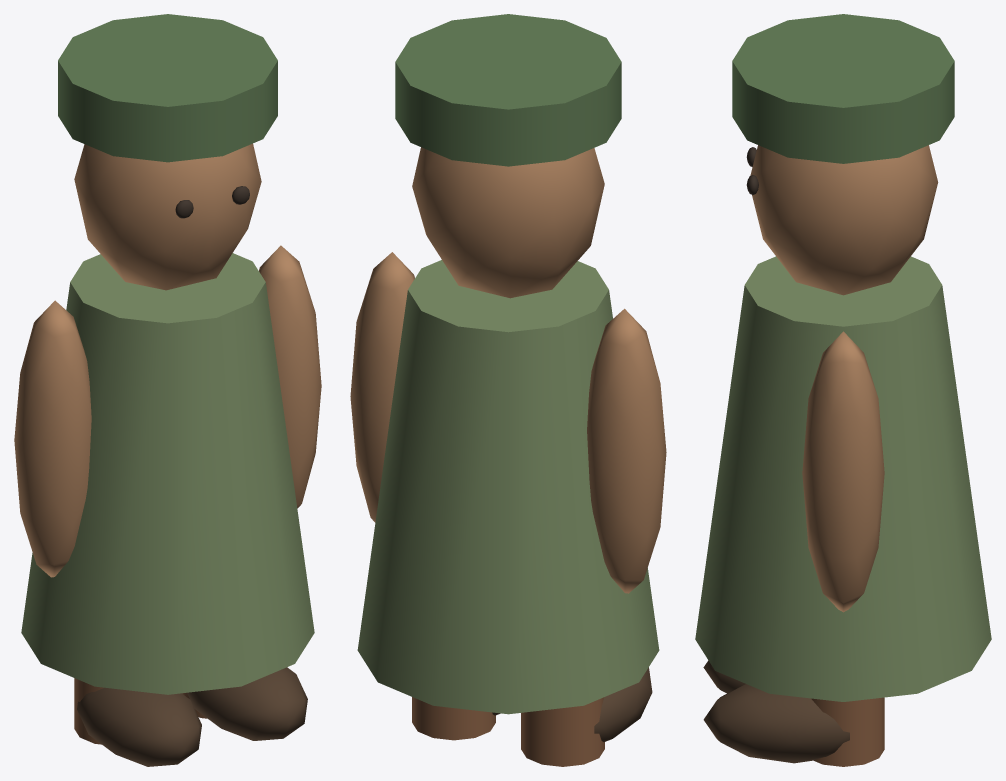
File: resident-nindada.glb
The picture shows the model from 3 angles, left to right: view 1: azimuth 30°, elevation 25°; view 2: azimuth 150°, elevation 25°; view 3: azimuth 270°, elevation 25°; orthographic projection. The views are drawn at different scales.
Parts seen in each view (by area): view 1: resident-nindada; view 2: resident-nindada; view 3: resident-nindada.
Boxes of the visible parts, box(x1,y1,x2,y2) form: resident-nindada: box(14, 14, 321, 766); resident-nindada: box(350, 14, 666, 766); resident-nindada: box(695, 14, 991, 766).
Bounding box in the file's own units: 0.84 × 1.79 × 0.72.
